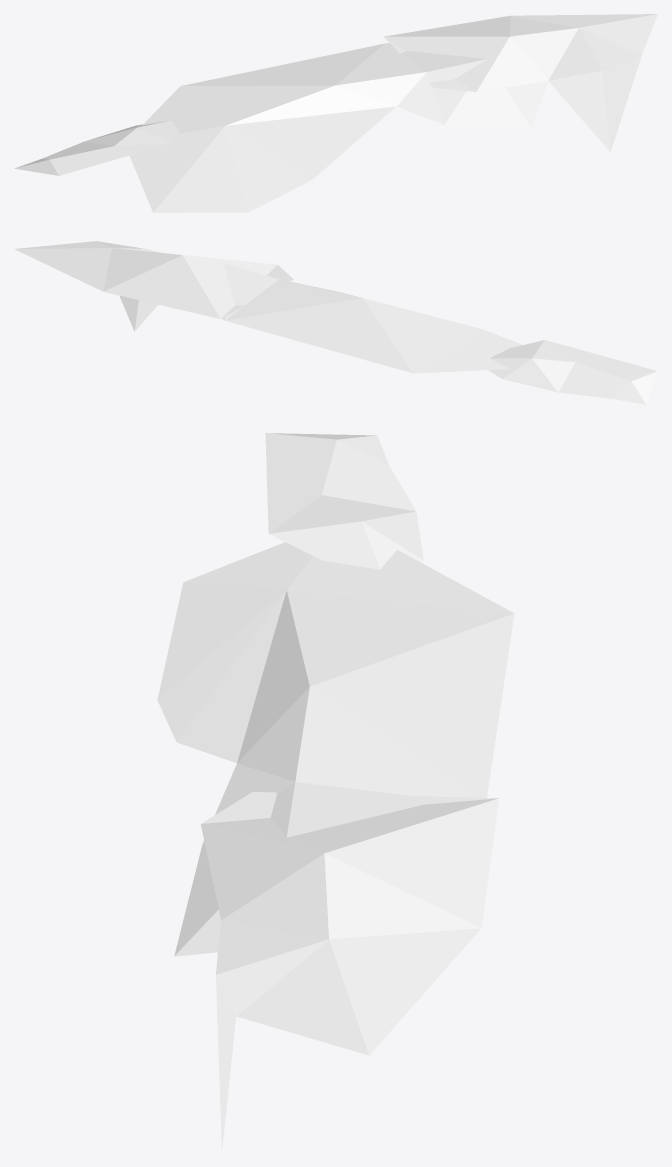
The model's file is SM_Env_Ivy_Draped_03.glb.
The picture shows the model from 3 angles, top to bottom: view 1: azimuth 30°, elevation 25°; view 2: azimuth 150°, elevation 25°; view 3: azimuth 270°, elevation 25°; orthographic projection. The views are drawn at different scales.
Visible parts, largest first — view 1: SM_Env_Ivy_Draped_03; view 2: SM_Env_Ivy_Draped_03; view 3: SM_Env_Ivy_Draped_03.
Boxes of the visible parts, box(x1,y1,x2,y2) form: SM_Env_Ivy_Draped_03: box(14, 14, 657, 212); SM_Env_Ivy_Draped_03: box(14, 241, 657, 404); SM_Env_Ivy_Draped_03: box(157, 433, 514, 1150).
Size of the model in its own units: 3.11 by 0.5329 by 0.7581.
Materials: 1 (1 with a texture image).
